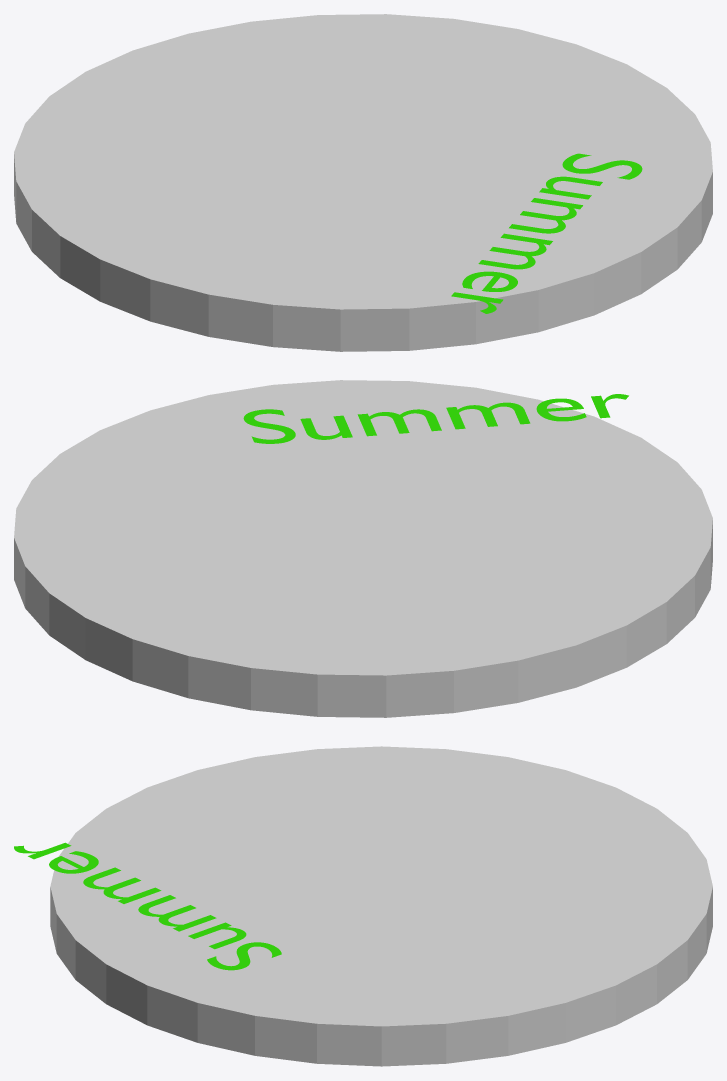
File: TERRAIN_summer_1.glb
3 views of the same model, one above another, from view 1: azimuth 30°, elevation 25°; view 2: azimuth 150°, elevation 25°; view 3: azimuth 270°, elevation 25° (orthographic). The views are drawn at different scales.
Parts seen in each view (by area): view 1: Cylinder, Text; view 2: Cylinder, Text; view 3: Cylinder, Text.
Part boxes in pixels (left/top/right/bottom): Cylinder: left=14, top=14, right=712, bottom=351; Text: left=451, top=153, right=642, bottom=313; Cylinder: left=14, top=380, right=712, bottom=717; Text: left=243, top=394, right=628, bottom=443; Cylinder: left=50, top=746, right=712, bottom=1066; Text: left=14, top=842, right=281, bottom=970.
Size of the model in its own units: 6 by 0.4697 by 6.33.
